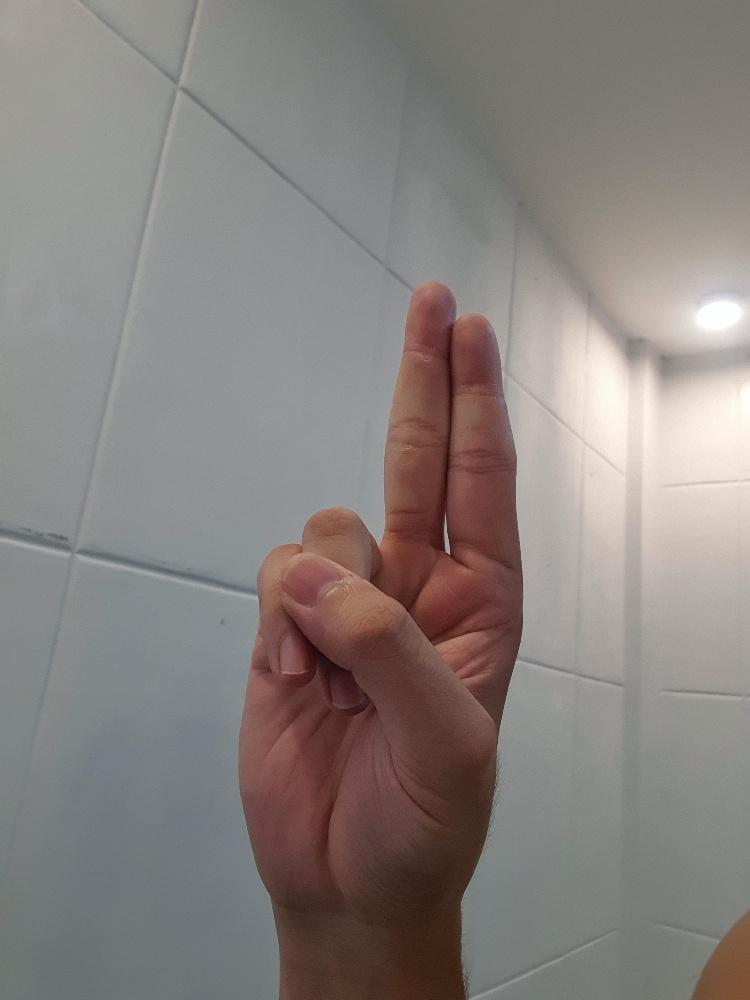u: (235, 276, 528, 934)
